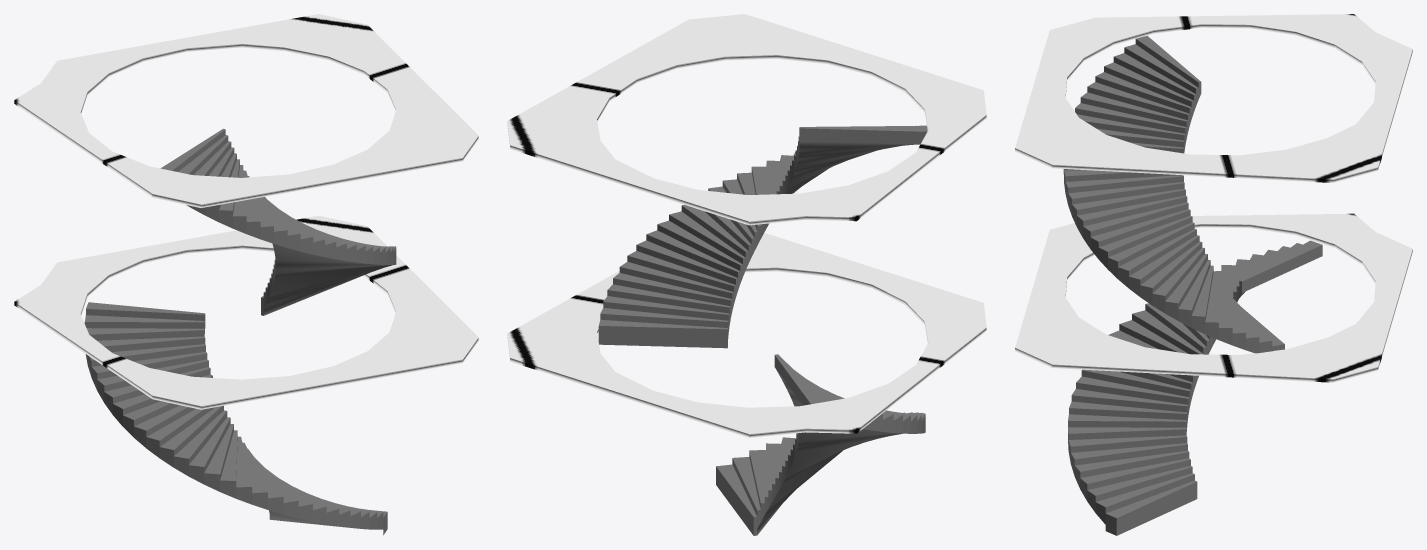
The model's file is spiral stairs bio.fbx.
3 views of the same model, side by side, from view 1: azimuth 30°, elevation 25°; view 2: azimuth 150°, elevation 25°; view 3: azimuth 270°, elevation 25° (orthographic). The views are drawn at different scales.
Visible parts, largest first — view 1: polySurface2026, polySurface2049, Stairs, Stairs__1_; view 2: polySurface2026, polySurface2049, Stairs__1_, Stairs; view 3: Stairs__1_, polySurface2026, polySurface2049, Stairs.
Part boxes in pixels (x1,y1,x2,y2): polySurface2026: (14, 14, 478, 207); polySurface2049: (14, 215, 478, 409); Stairs: (84, 302, 387, 535); Stairs__1_: (160, 128, 396, 315); polySurface2026: (507, 14, 986, 225); polySurface2049: (507, 233, 986, 437); Stairs__1_: (598, 125, 927, 348); Stairs: (716, 354, 925, 535); Stairs__1_: (1063, 35, 1284, 353); polySurface2026: (1015, 14, 1412, 182); polySurface2049: (1015, 213, 1412, 382); Stairs: (1068, 240, 1322, 535).
Size of the model in its own units: 1214 by 1367 by 1234.
